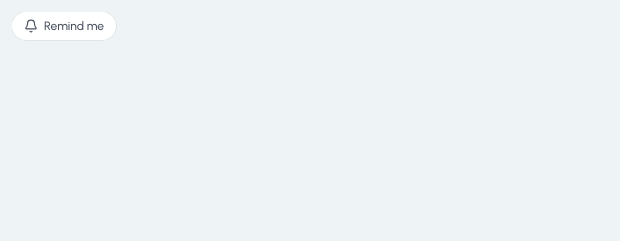
Test case: HealthTipReminder › sets a daily morning reminder by default, named after the tip
What coordinates should you click on to do the following:
click the button "Remind me"
I would click on:
 (64, 26)
Its box is [12,12,116,40].
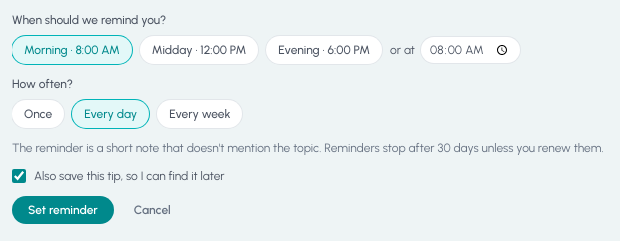
What coordinates should you click on to do the following:
click the button "Set reminder"
I would click on:
 (63, 210)
Its box is [12,196,114,224].
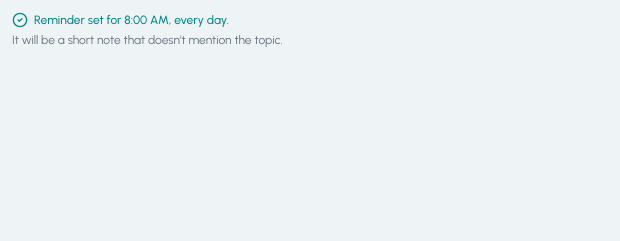
Now the text "Reminder set for 8:00 AM, every day." is shown, box [12,12,229,28]
